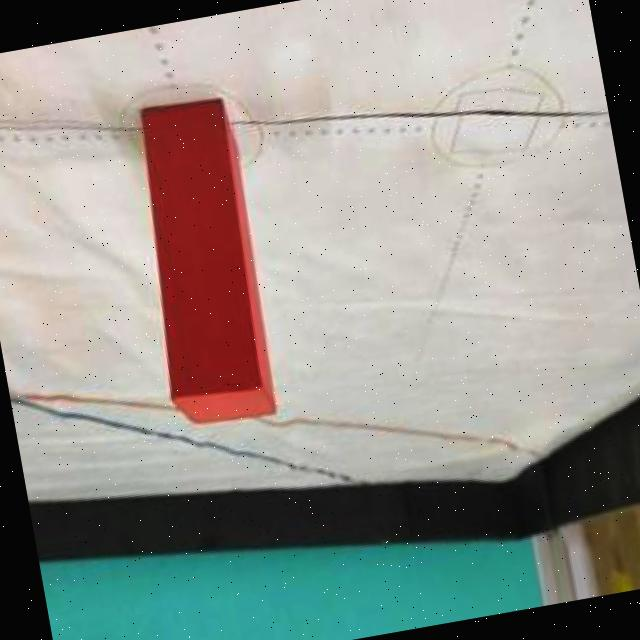redbox: (118, 95, 282, 432)
